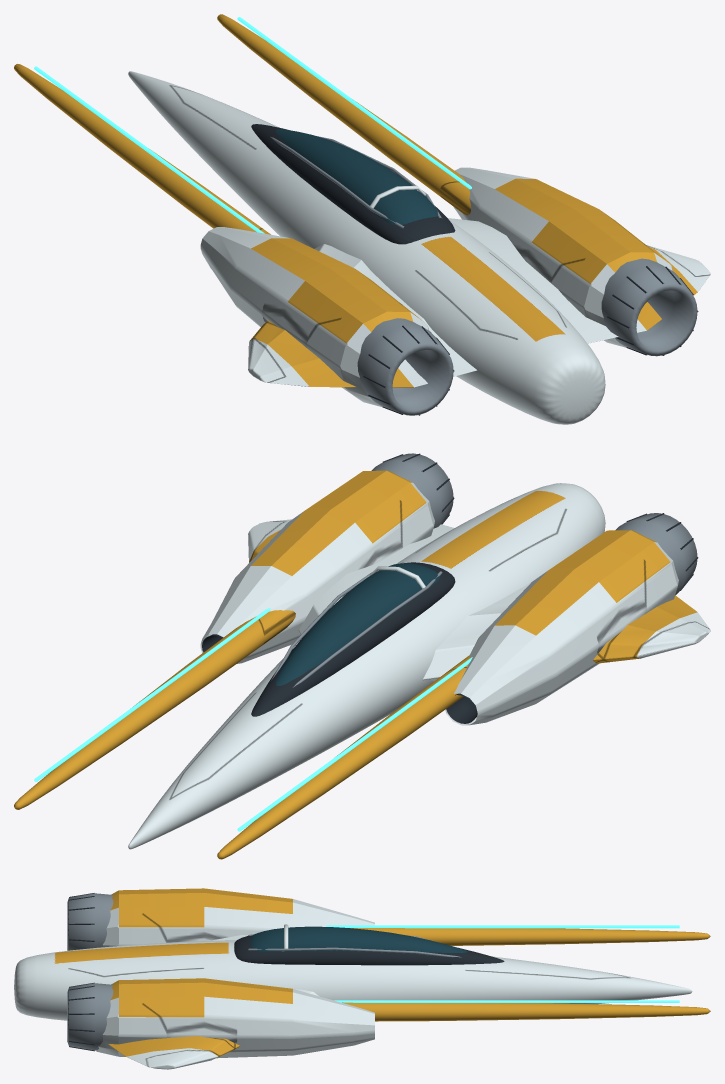
The picture shows the model from 3 angles, top to bottom: view 1: azimuth 30°, elevation 25°; view 2: azimuth 150°, elevation 25°; view 3: azimuth 270°, elevation 25°; orthographic projection. The views are drawn at different scales.
Visible parts, largest first — view 1: ChromeRailV2; view 2: ChromeRailV2; view 3: ChromeRailV2.
Boxes of the visible parts, <box> form: ChromeRailV2: <box>14,14,710,424</box>; ChromeRailV2: <box>14,453,710,859</box>; ChromeRailV2: <box>14,888,710,1069</box>.
Bounding box in the file's own units: 2.42 × 0.6313 × 4.33.
Materials: 6 (2 with a texture image).
